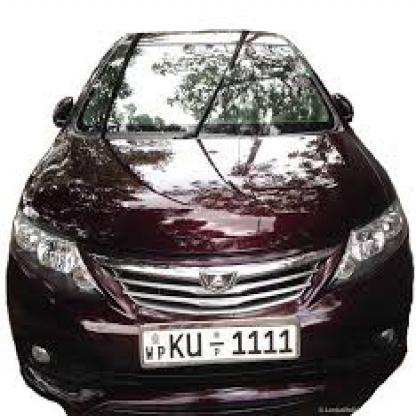car: (7, 27, 414, 414)
